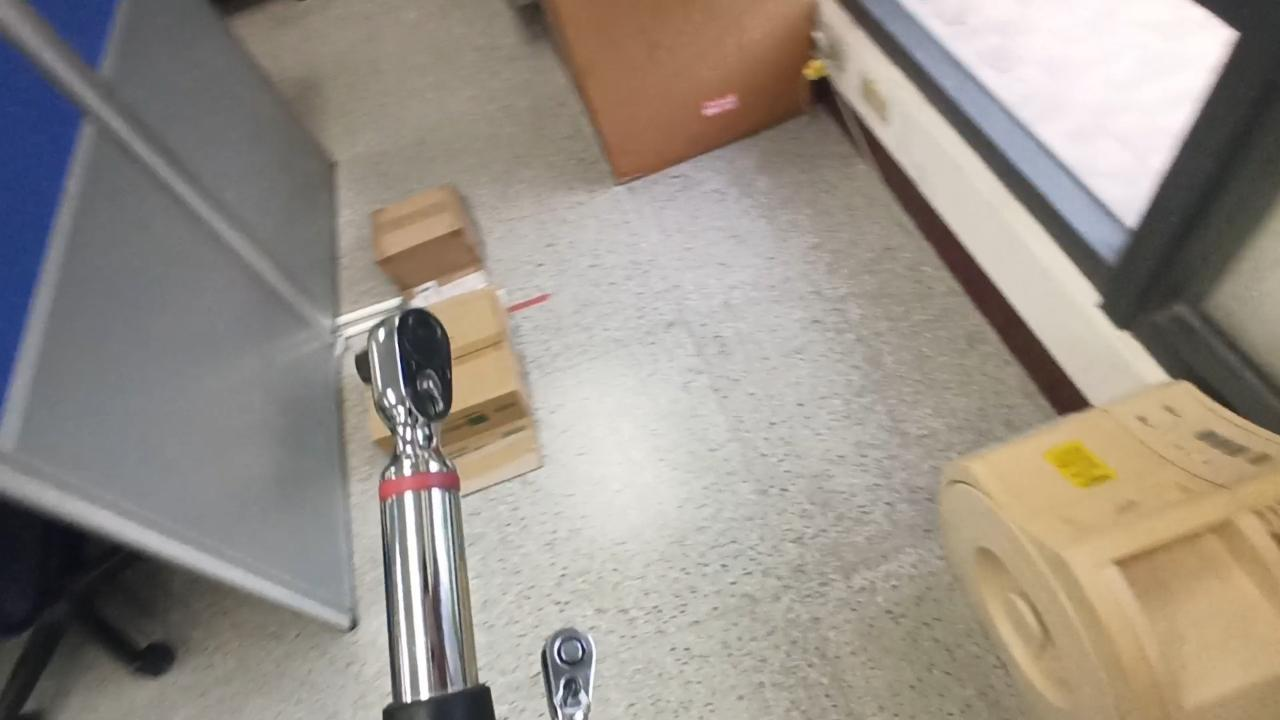Tool: (360, 308, 462, 468), (541, 624, 599, 720)
